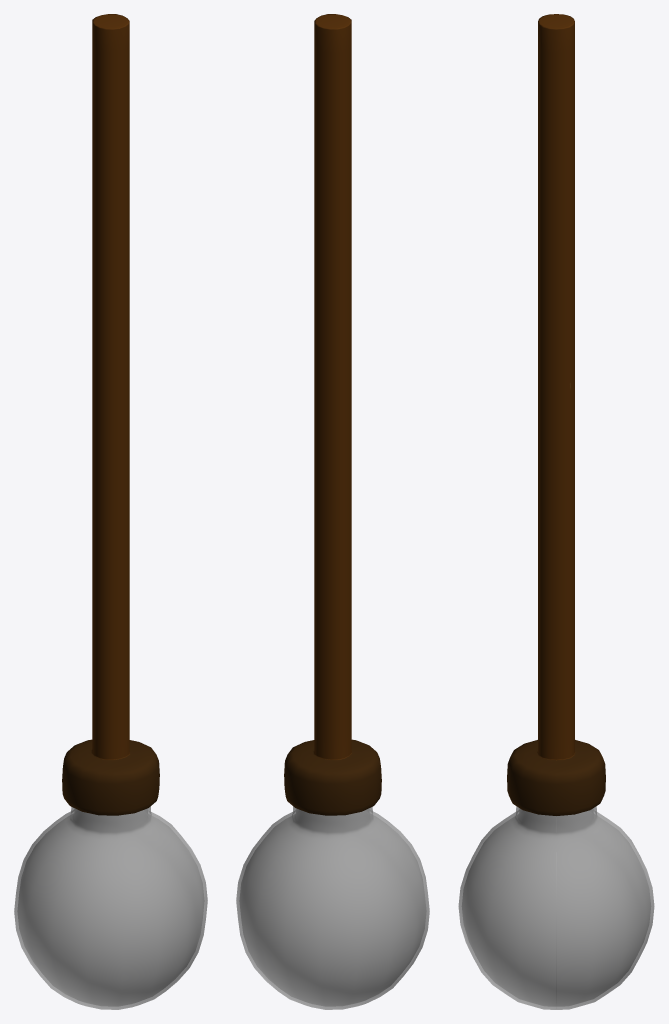
File: light.fbx
The picture shows the model from 3 angles, left to right: view 1: azimuth 30°, elevation 25°; view 2: azimuth 150°, elevation 25°; view 3: azimuth 270°, elevation 25°; orthographic projection.
Parts seen in each view (by area): view 1: fixture, bulb; view 2: fixture, bulb; view 3: fixture, bulb.
Boxes of the visible parts, box(x1,y1,x2,y2) form: fixture: box(62, 14, 159, 815); bulb: box(14, 806, 207, 1009); fixture: box(284, 14, 381, 815); bulb: box(236, 806, 429, 1009); fixture: box(507, 14, 605, 815); bulb: box(458, 806, 654, 1009).
Bounding box in the file's own units: 1.56 × 8.62 × 1.56.
